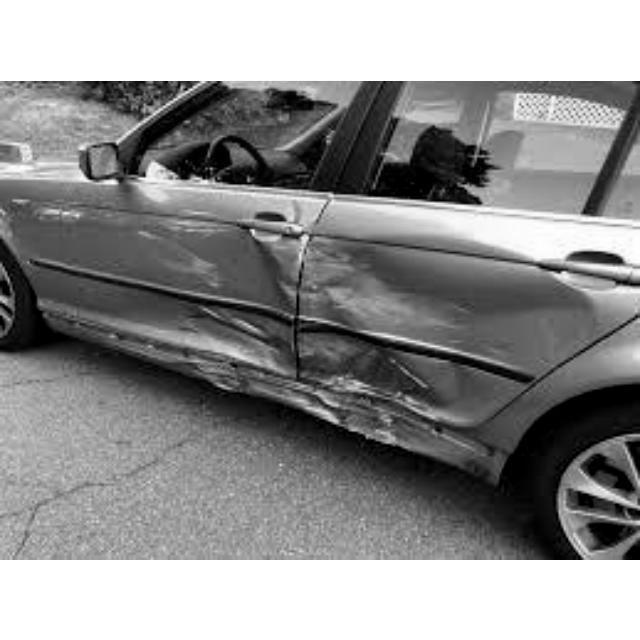Runningboard-Damage: (282, 385, 447, 446), (109, 345, 267, 396)
doorouter-dent: (301, 202, 567, 379), (89, 192, 299, 345)
